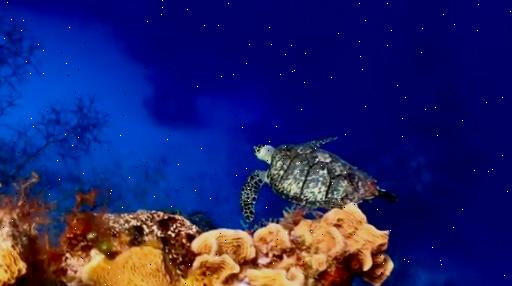Fish: (242, 137, 397, 222)
